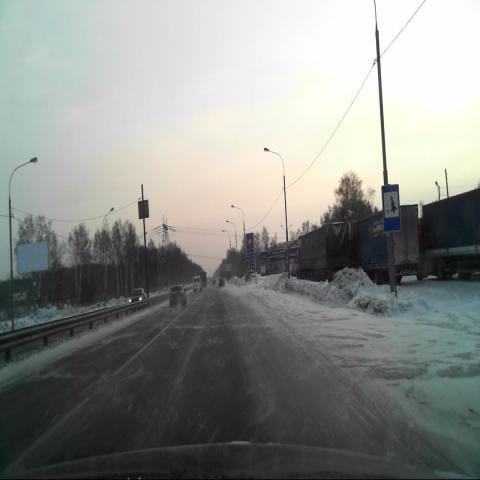7_11: (381, 184, 400, 233)
